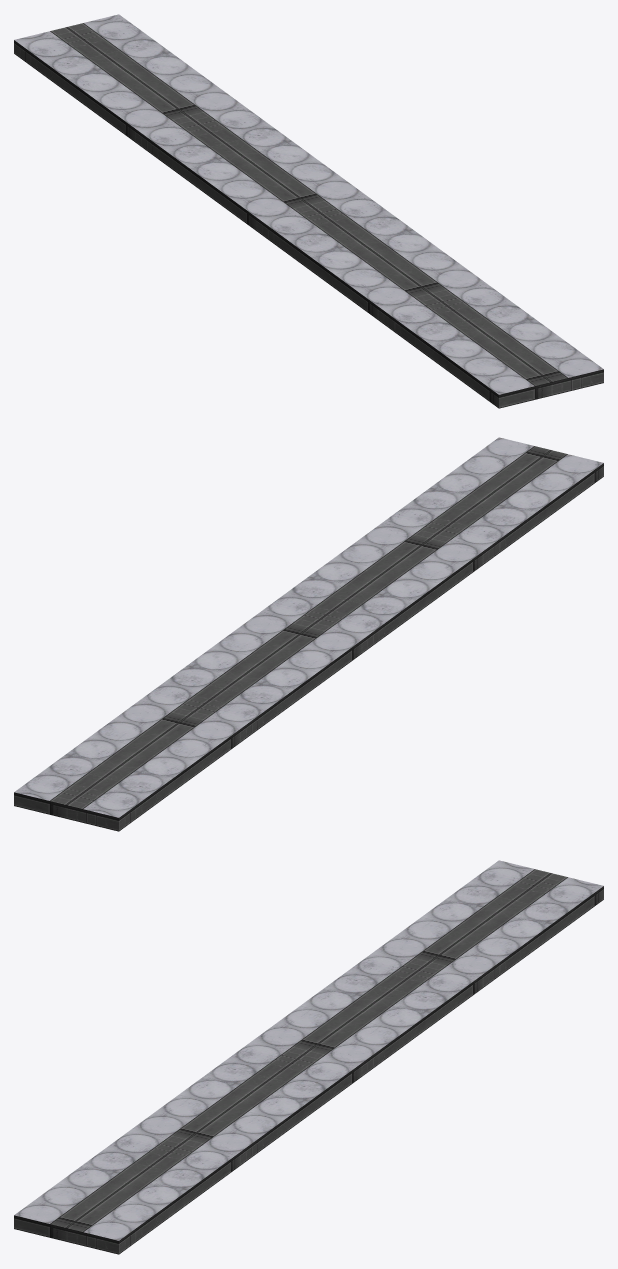
The model's file is Neon_Floor_4x32A2.FBX.
3 renders of one model, top to bottom at view 1: azimuth 30°, elevation 25°; view 2: azimuth 150°, elevation 25°; view 3: azimuth 330°, elevation 25°, orthographic.
Parts seen in each view (by area): view 1: Neon_Floor_4x32A2; view 2: Neon_Floor_4x32A2; view 3: Neon_Floor_4x32A2.
Part boxes in pixels (x1=…): Neon_Floor_4x32A2: x1=14, y1=14, x2=603, y2=408; Neon_Floor_4x32A2: x1=14, y1=437, x2=603, y2=831; Neon_Floor_4x32A2: x1=14, y1=860, x2=603, y2=1254.
Bounding box in the file's own units: 4 × 0.5 × 32.
